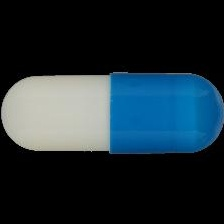16590-871: (0, 0, 224, 224)
